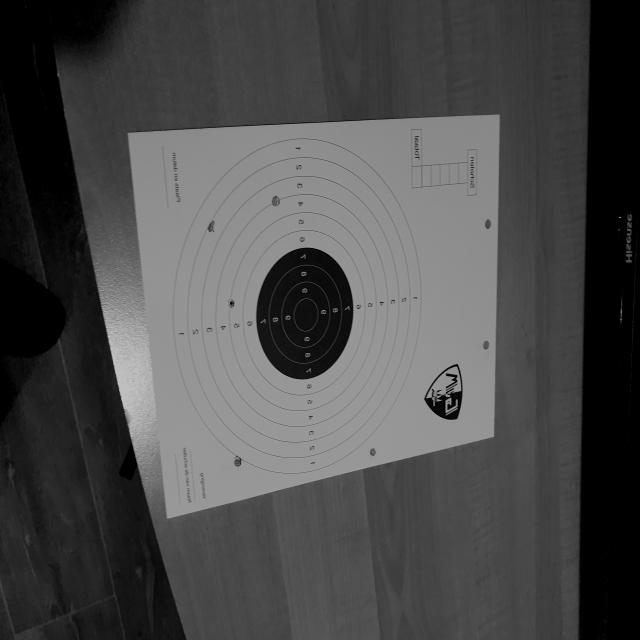0: (233, 455, 242, 467), (370, 446, 377, 458)
2: (207, 225, 214, 232), (209, 219, 215, 226)
4: (271, 196, 280, 207)
5: (228, 298, 235, 308)
Target: (173, 138, 422, 473)
black_contour: (256, 248, 354, 380)
